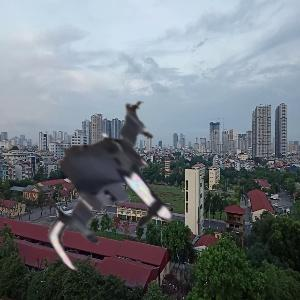drone: (19, 99, 201, 281)
